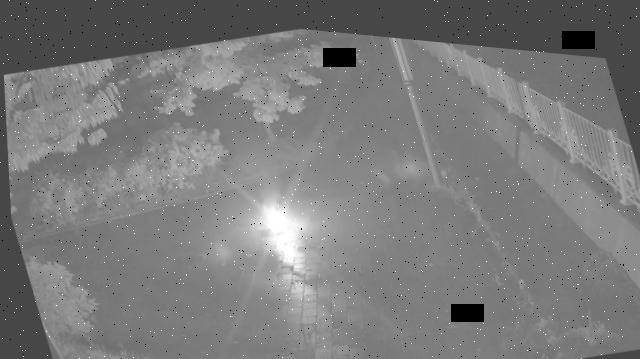fire: (239, 181, 313, 264)
